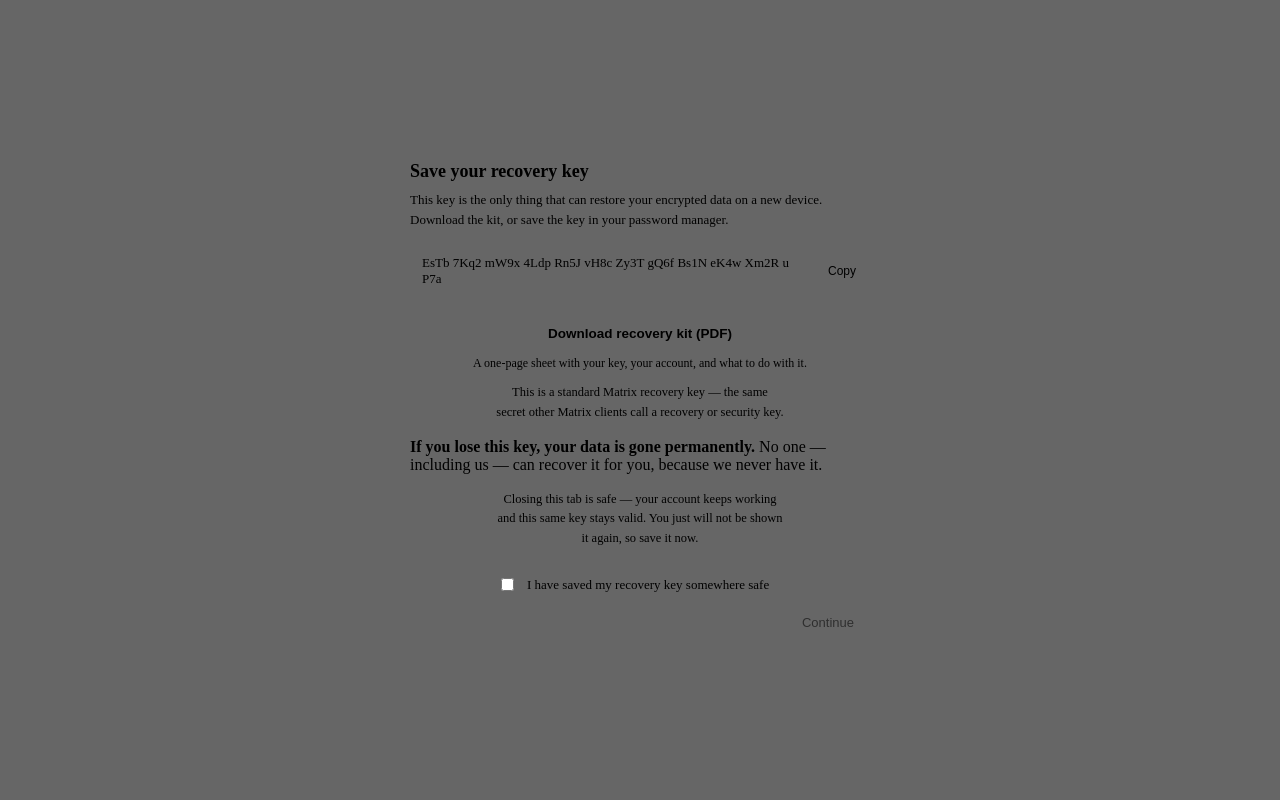
Test case: VerifyDeviceScreen › prove the key was saved › can show the key again
Click the checkbox.
click(508, 585)  # box [501,578,514,591]
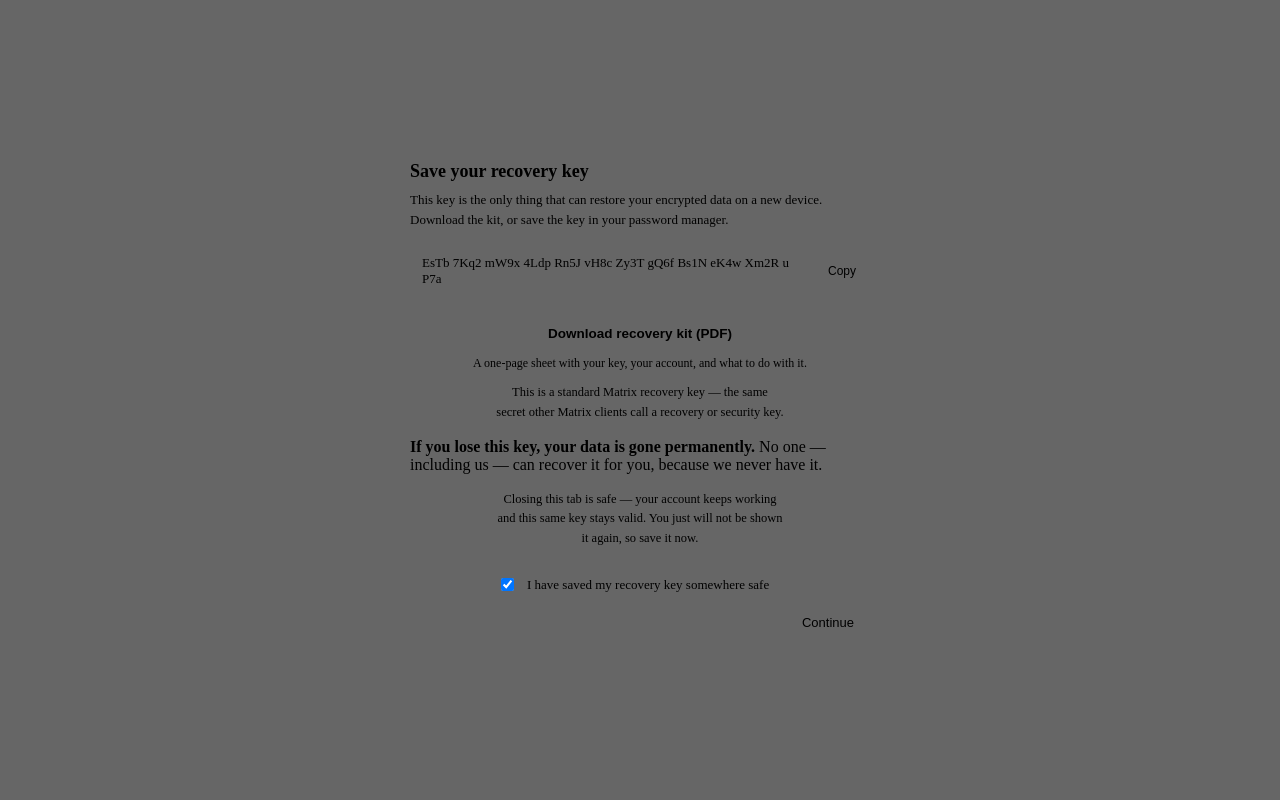
Click the button "Continue".
click(828, 622)  # box [786,606,870,639]
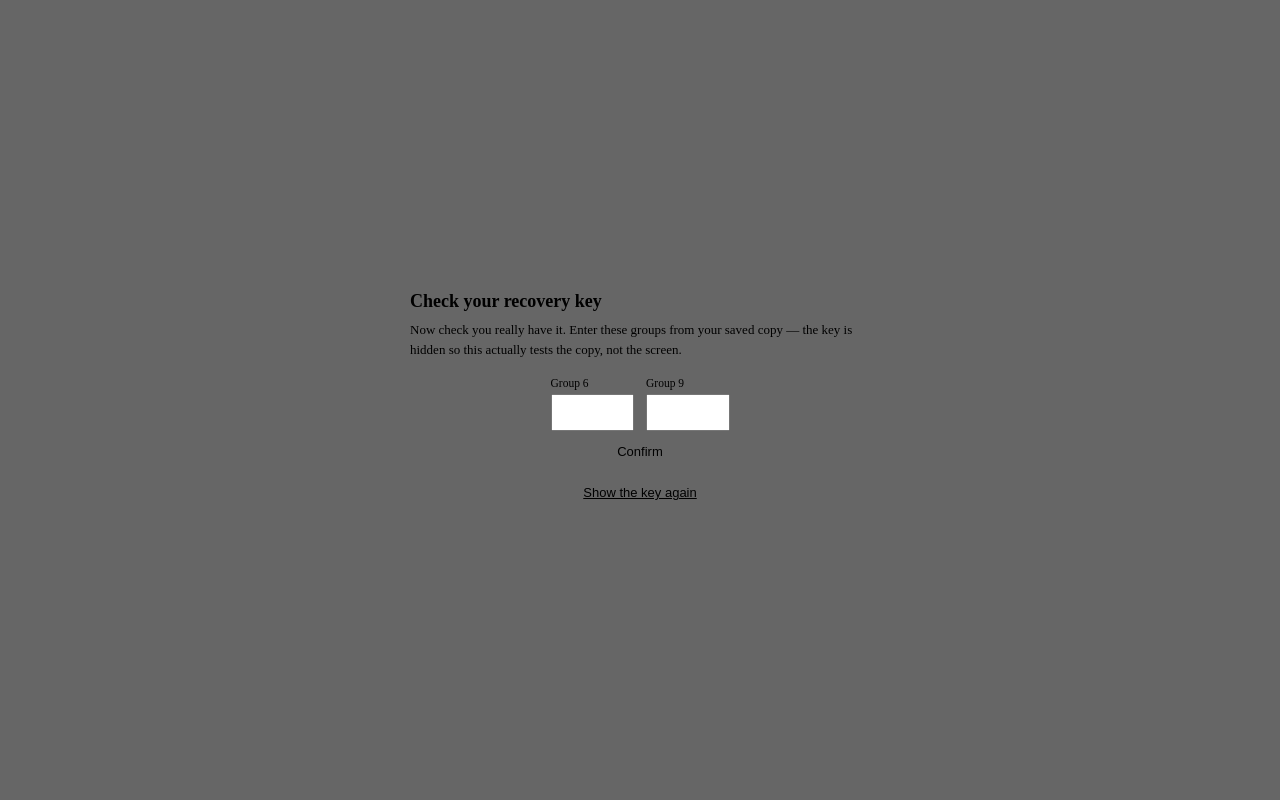
Click the button "Show the key again".
click(640, 492)  # box [410,476,870,509]
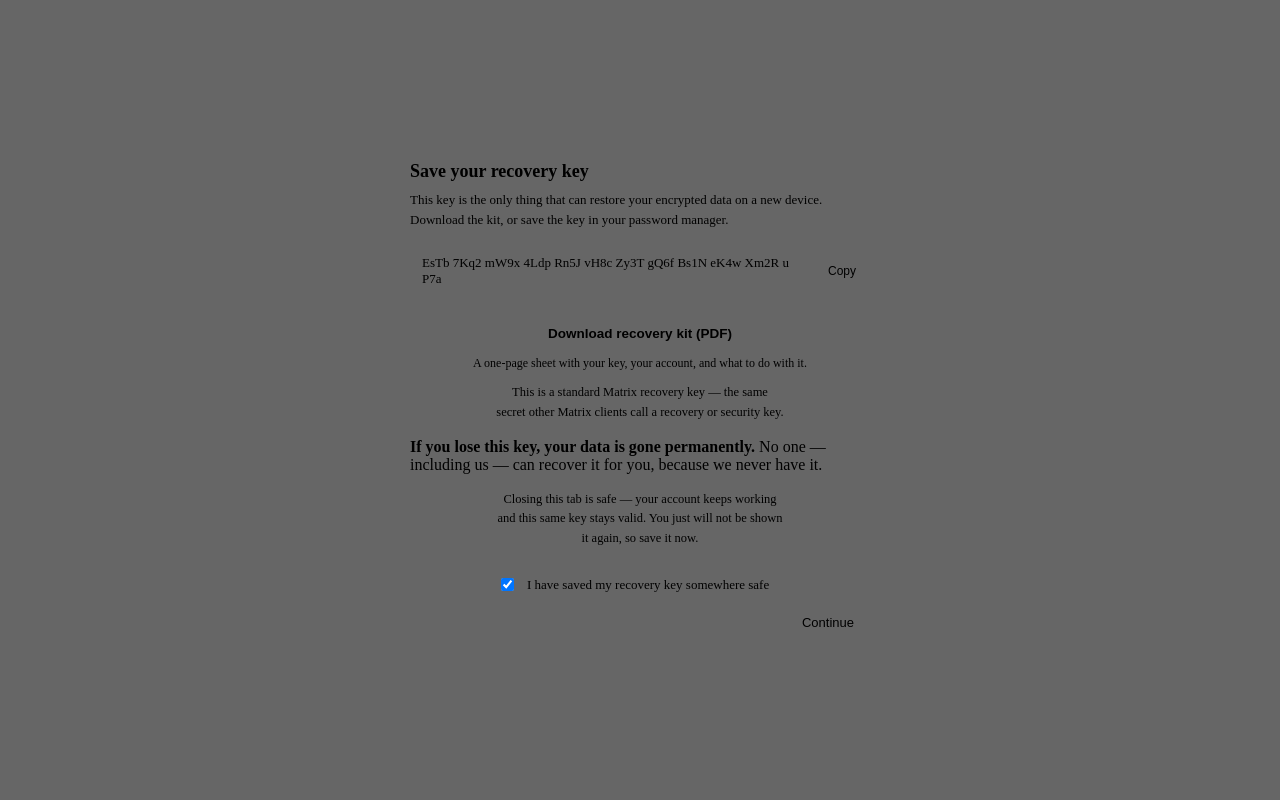
expect the text "EsTb 7Kq2 mW9x 4Ldp Rn5J vH8c Zy3T gQ6f Bs1N eK4w Xm2R uP7a" is shown: met, box [422,255,789,286]
